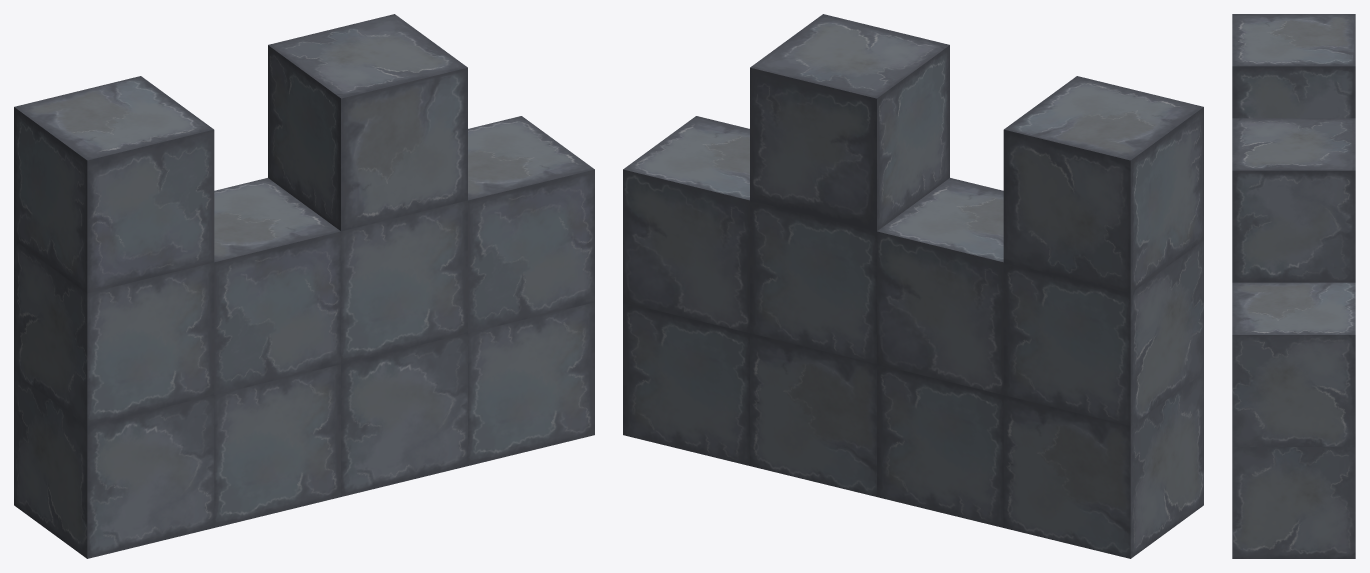
File: Castle Deco 5.fbx
3 views of the same model, side by side, from view 1: azimuth 30°, elevation 25°; view 2: azimuth 150°, elevation 25°; view 3: azimuth 270°, elevation 25° (orthographic). The views are drawn at different scales.
Visible parts, largest first — view 1: Castle Deco 5; view 2: Castle Deco 5; view 3: Castle Deco 5.
Part boxes in pixels (x1,y1,x2,y2): Castle Deco 5: (14,14,594,558); Castle Deco 5: (623,14,1203,558); Castle Deco 5: (1232,14,1355,558).
Size of the model in its own units: 3 by 2.25 by 0.75.
